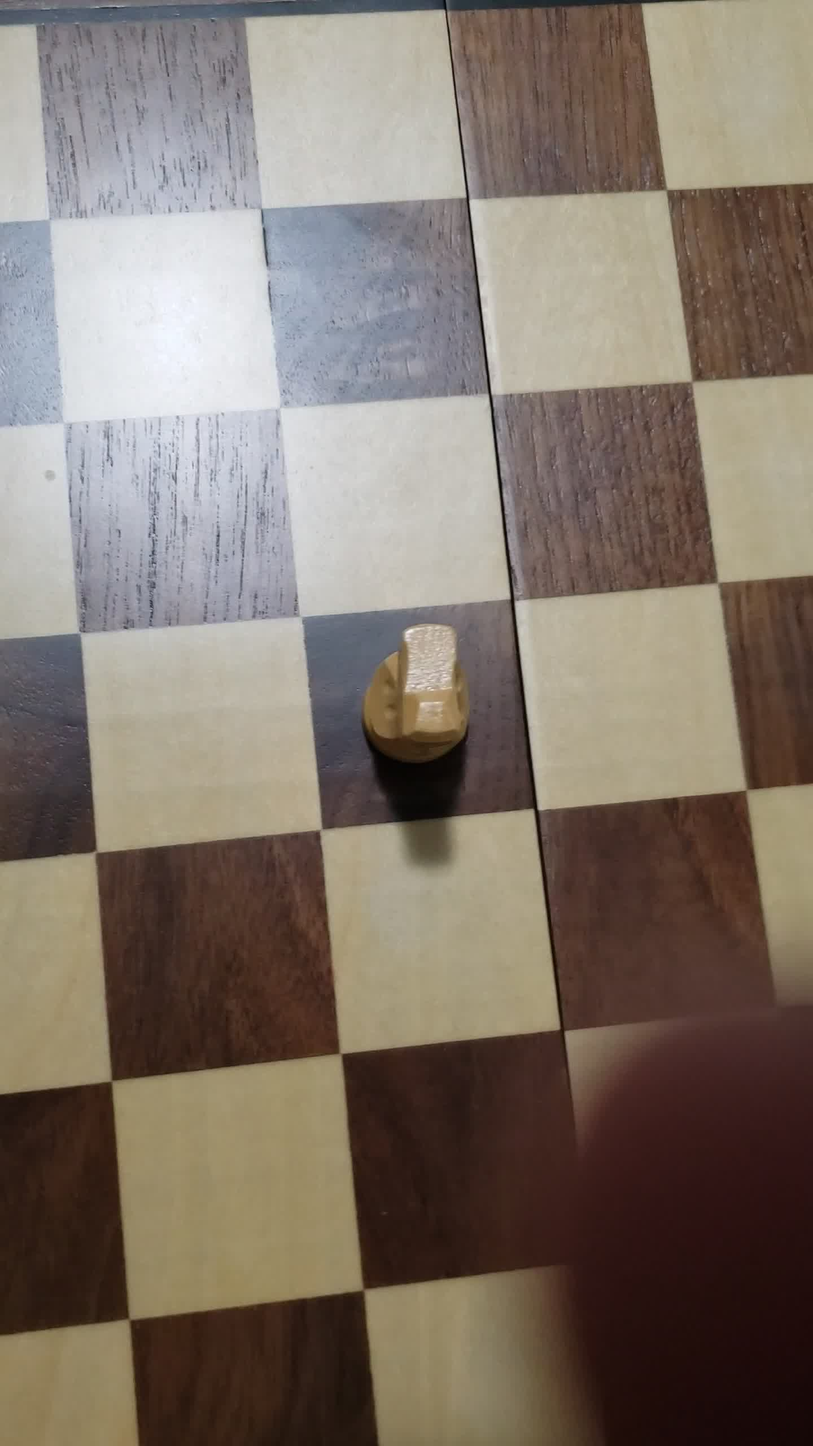white-knight: (347, 605, 503, 795)
